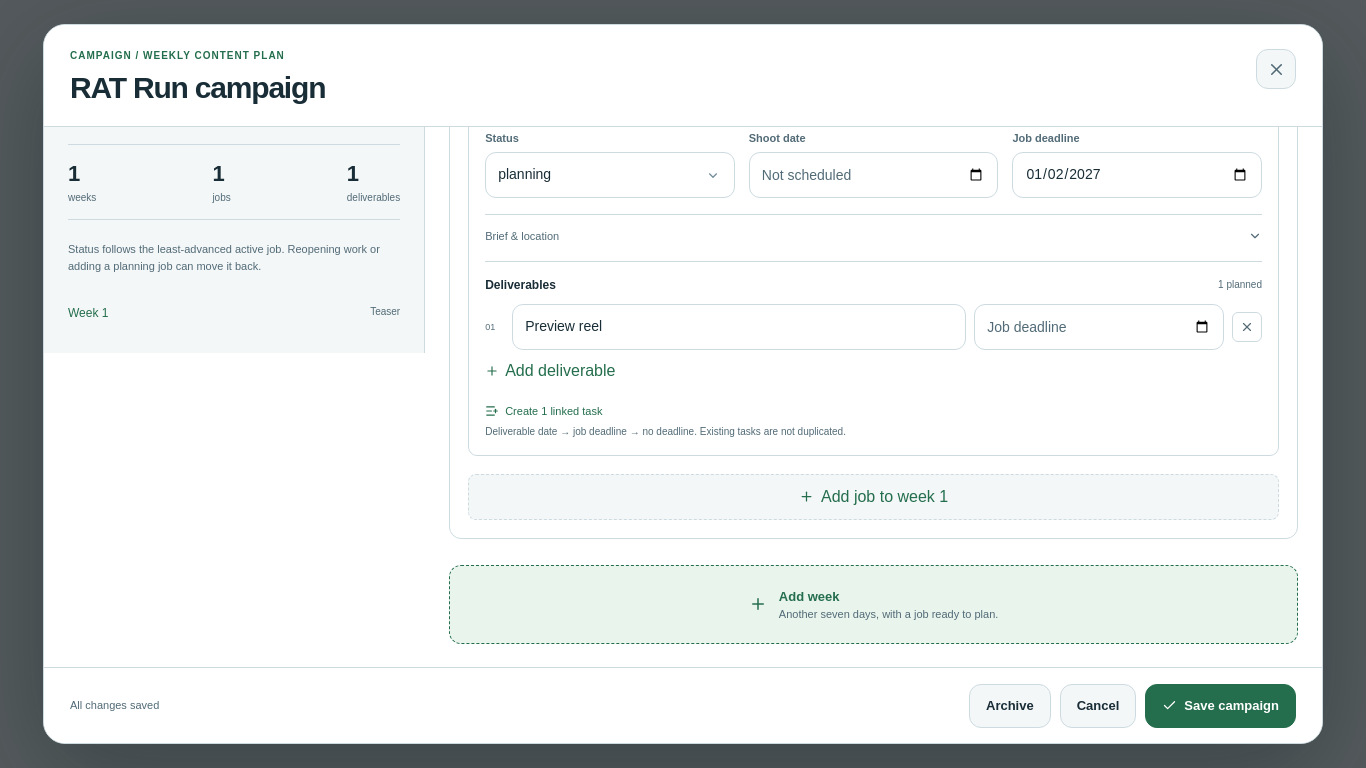
it: Campaign weekly editor › adds weeks with a job, computes year-crossing dates and enforces the minimum
The image size is (1366, 768).
(page scrolled)
Click the button with class "campaign-add-week" at (809, 596), box [449,564,1298,644]
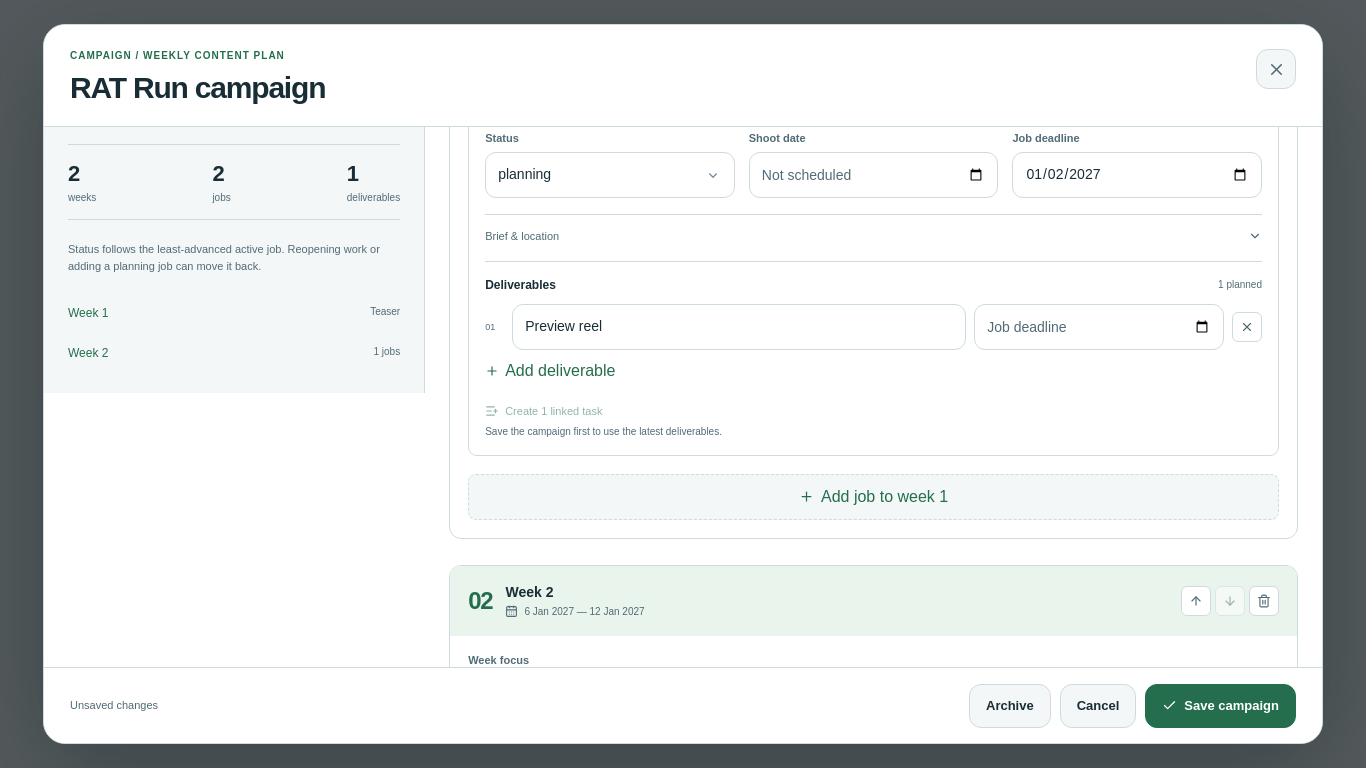
Check: the text "6 Jan 2027 — 12 Jan 2027" is shown, box [506,604,645,618]
Check: the button "Create 1 linked task" is disabled, box [485,392,1262,418]
